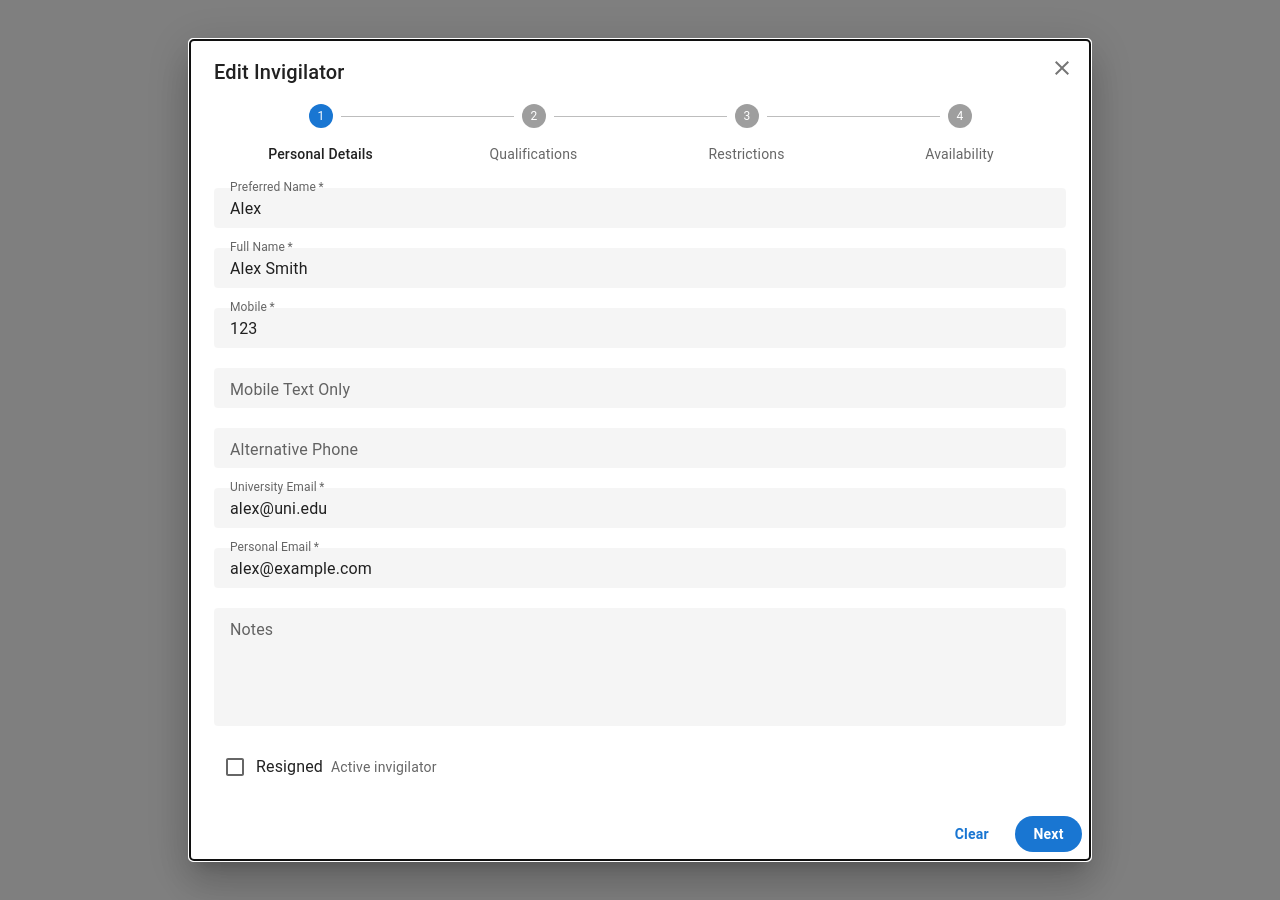
Test: EditInvigilatorDialog › resets to original values when Clear is clicked
Replace the text in the field labelled "Preferred Name *" with "Jordan": (640, 208) 230,197 -> 1050,220
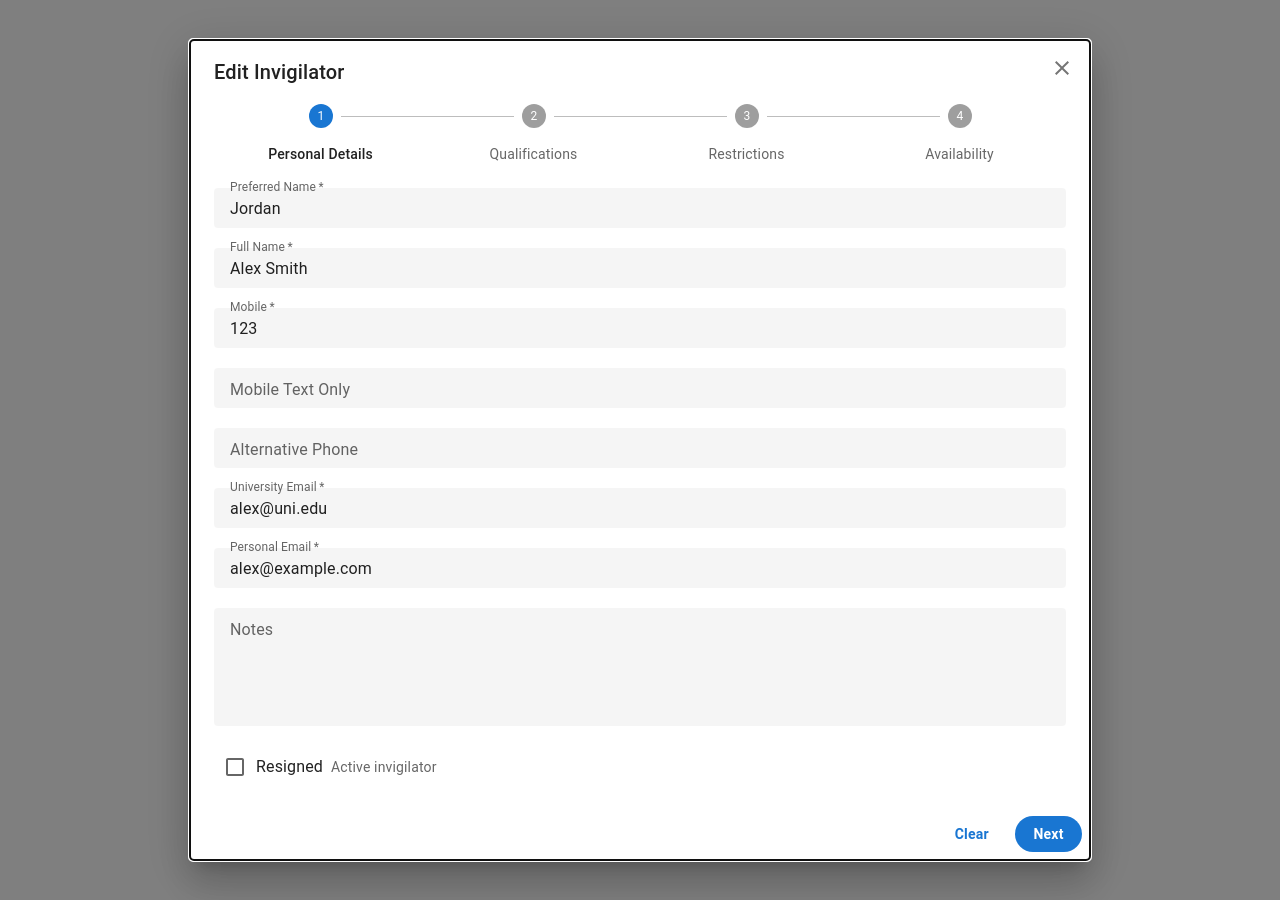
Click the button "Clear": (972, 834) 936,816 -> 1007,852
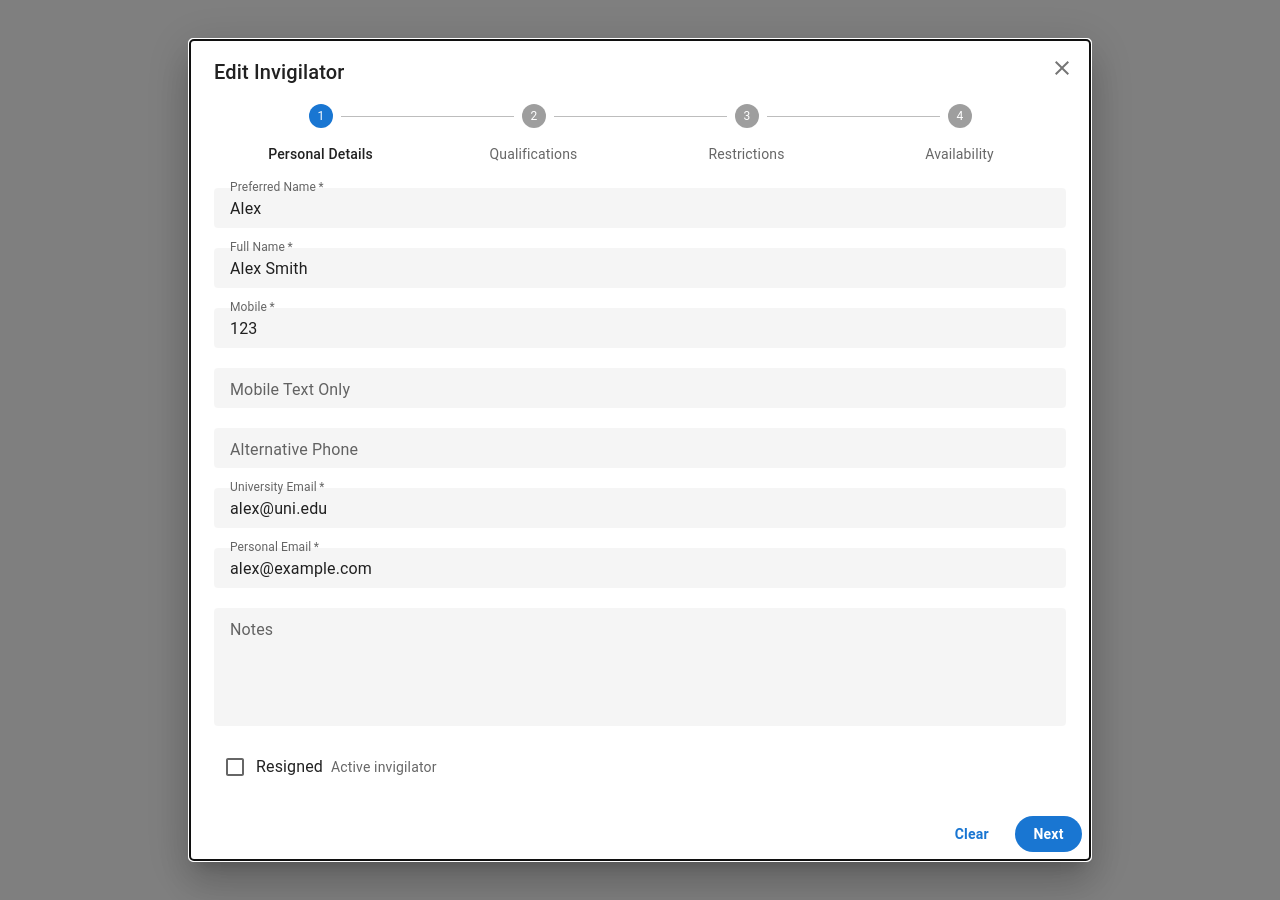
Check: the field labelled "Preferred Name *" holds "Alex", box 230,197 -> 1050,220
